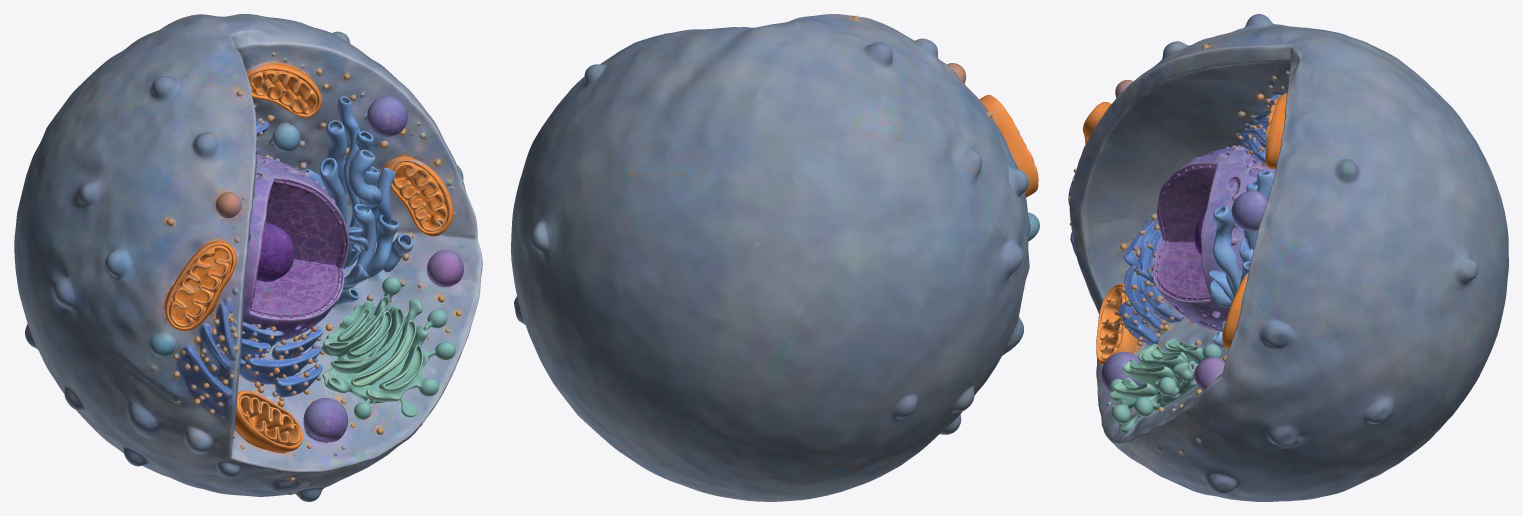
Rendered from human-cell.glb.
3 renders of one model, left to right at view 1: azimuth 30°, elevation 25°; view 2: azimuth 150°, elevation 25°; view 3: azimuth 270°, elevation 25°, orthographic. The views are drawn at different scales.
Visible parts, largest first — view 1: human-cell; view 2: human-cell; view 3: human-cell.
Part boxes in pixels (x1,y1,x2,y2): human-cell: (14,14,482,501); human-cell: (511,14,1039,501); human-cell: (1068,14,1508,501).
Size of the model in its own units: 0.3 by 0.2954 by 0.2722.
Materials: 1 (1 with a texture image).
